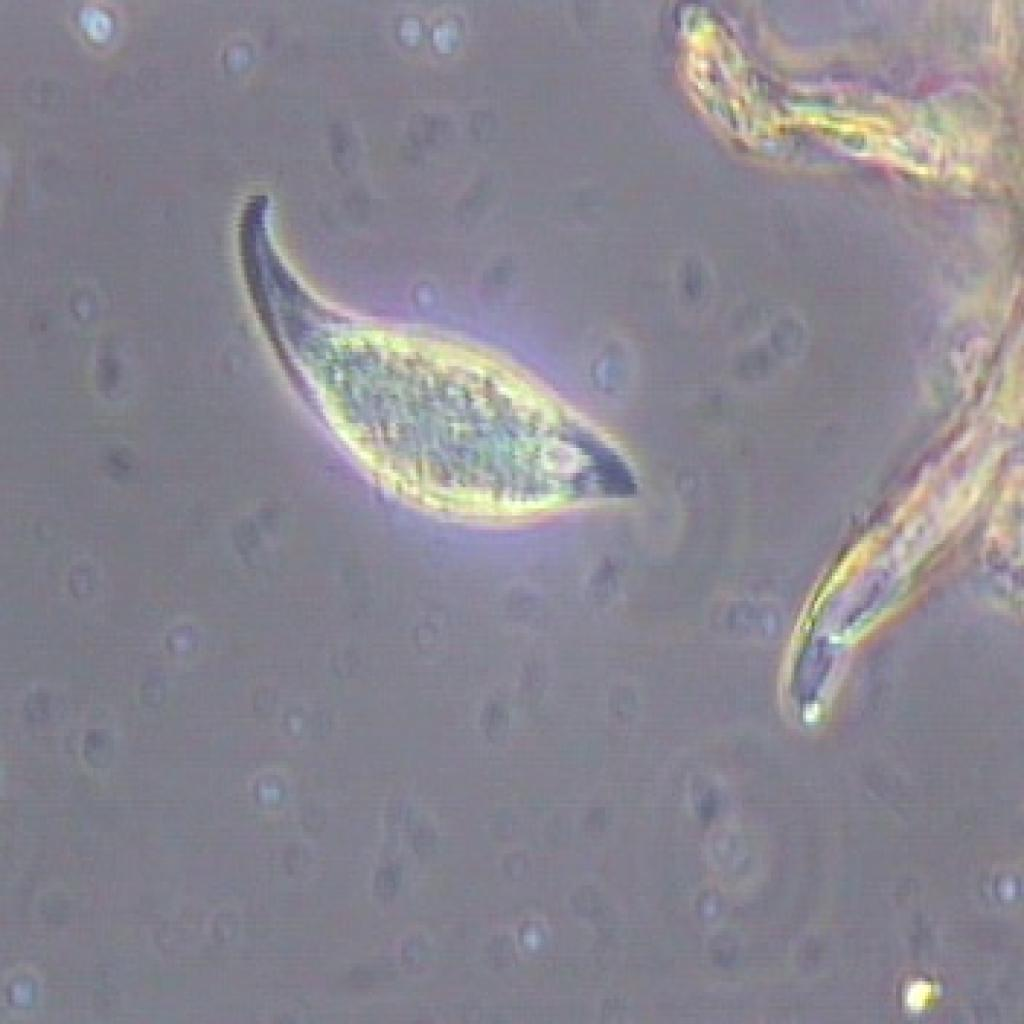Pristina: (218, 167, 646, 576)
